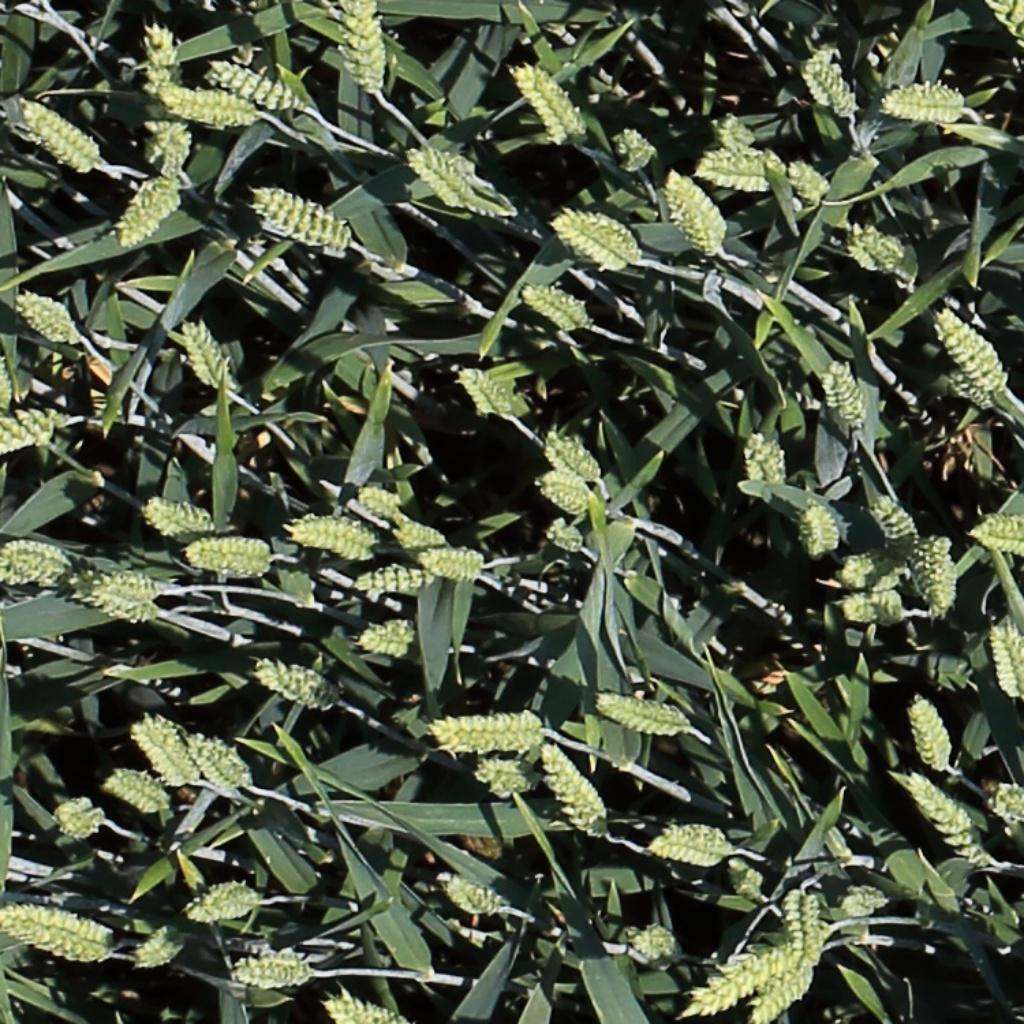0-0: (396, 137, 525, 218), (906, 771, 995, 872), (539, 740, 610, 838), (696, 951, 798, 1014), (935, 305, 1007, 394), (251, 185, 350, 245), (0, 908, 110, 961), (546, 207, 640, 269), (666, 167, 730, 255), (518, 64, 585, 144), (796, 45, 862, 126), (17, 98, 98, 161), (136, 491, 225, 548), (285, 511, 381, 563), (128, 719, 189, 794), (114, 176, 181, 243), (211, 61, 303, 109), (431, 712, 540, 750), (344, 0, 385, 98), (909, 692, 955, 779), (596, 694, 693, 735), (915, 535, 960, 623), (818, 587, 906, 632), (419, 543, 498, 592), (881, 85, 973, 127), (753, 963, 816, 1024), (178, 314, 228, 390), (796, 490, 848, 563), (394, 507, 461, 563), (76, 579, 157, 625), (182, 876, 263, 921), (184, 737, 249, 793), (651, 820, 730, 866), (187, 534, 271, 577), (0, 538, 82, 582), (253, 664, 333, 707), (827, 354, 871, 432), (458, 363, 517, 421), (864, 498, 927, 551), (521, 282, 592, 329), (544, 430, 604, 484), (159, 87, 256, 120), (438, 873, 506, 920), (357, 559, 438, 598), (790, 881, 824, 970), (700, 158, 784, 194), (844, 879, 900, 932), (988, 619, 1022, 705), (13, 293, 76, 339), (232, 952, 322, 984), (146, 16, 178, 102), (748, 425, 787, 495), (849, 223, 905, 271), (475, 747, 533, 793), (822, 555, 903, 587), (0, 415, 57, 460), (985, 771, 1024, 836), (157, 114, 191, 187), (718, 855, 771, 901), (786, 155, 835, 204), (529, 511, 587, 552), (103, 775, 166, 811), (940, 368, 992, 411), (539, 475, 595, 512), (618, 120, 655, 173), (360, 619, 417, 652), (326, 998, 401, 1022), (706, 113, 757, 148), (357, 487, 405, 520), (969, 524, 1024, 550), (54, 809, 105, 836), (641, 928, 684, 959), (133, 939, 180, 966), (462, 835, 505, 858)
